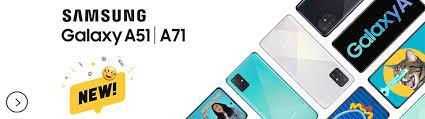Smartphone: (258, 8, 350, 96), (232, 53, 341, 119), (330, 0, 425, 58), (374, 21, 425, 99), (296, 0, 357, 26), (303, 102, 390, 119)
